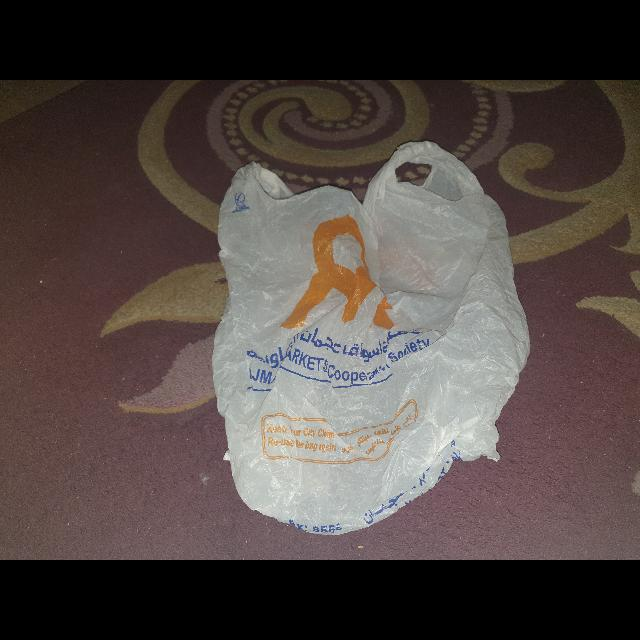plastic_bag: (206, 136, 534, 542)
